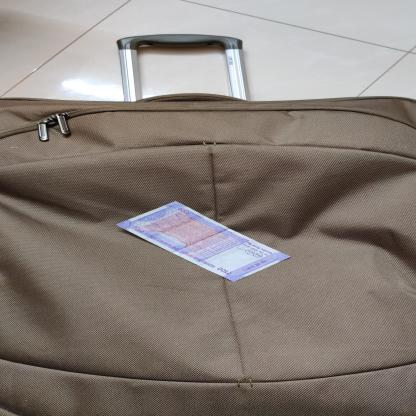New100Back: (115, 201, 292, 282)
